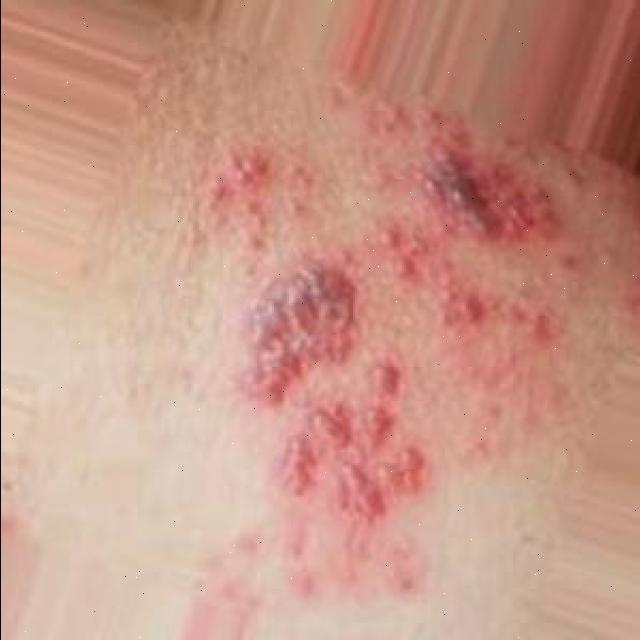Shingles: (232, 251, 434, 517), (197, 115, 556, 260)
